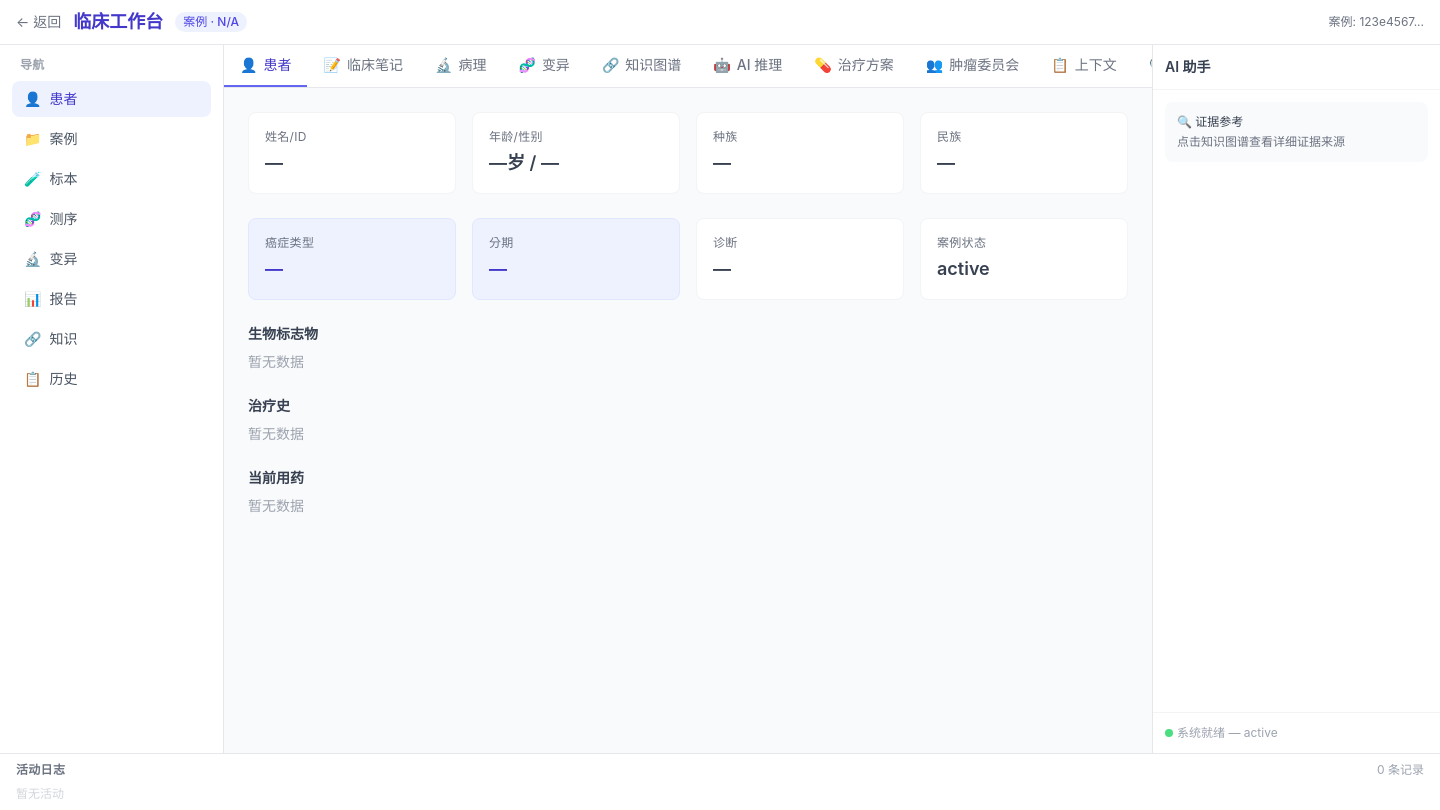
Test: Workbench core states › shows empty state for AI reasoning
Click the button "🤖AI 推理" at (748, 66), box [697,45,798,87]
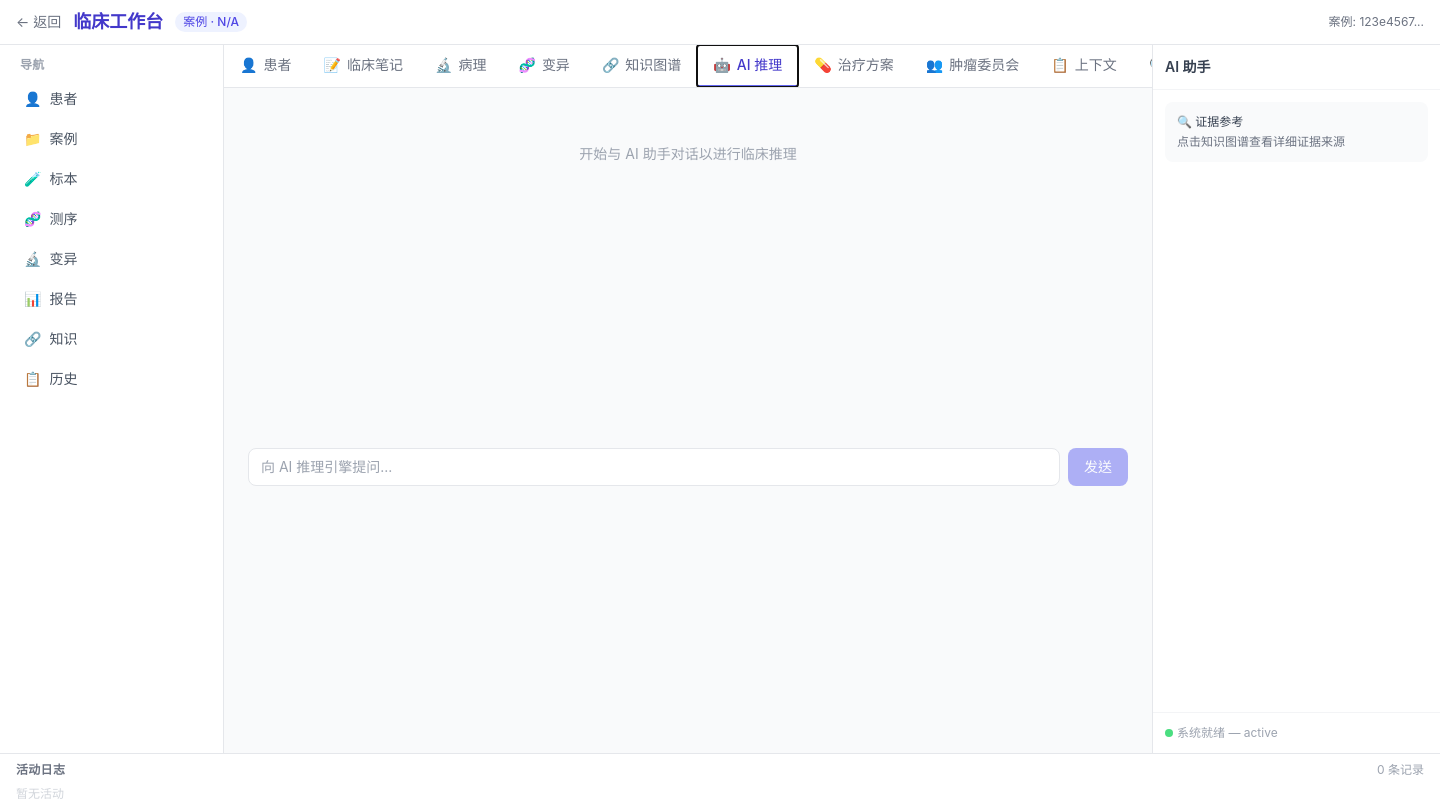
Result: the text "开始与 AI 助手对话以进行临床推理" is shown at [579,145,797,162]
